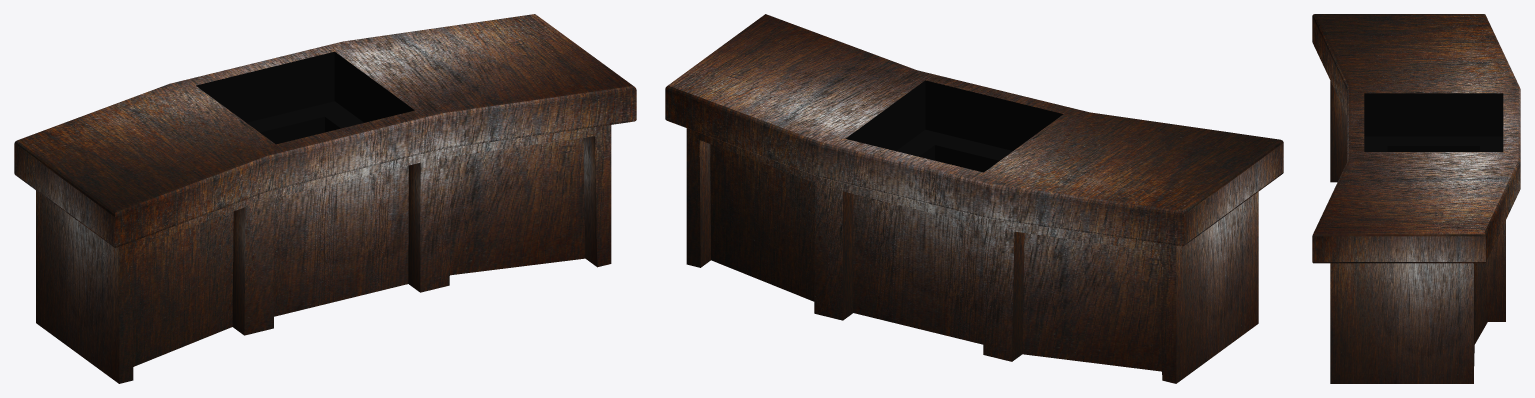
The model's file is Desk.fbx.
3 renders of one model, left to right at view 1: azimuth 30°, elevation 25°; view 2: azimuth 150°, elevation 25°; view 3: azimuth 270°, elevation 25°, orthographic. The views are drawn at different scales.
Parts seen in each view (by area): view 1: Desk; view 2: Desk; view 3: Desk.
Boxes of the visible parts, x1,y1,x2,y2 form: Desk: (14,14,636,383); Desk: (665,14,1283,383); Desk: (1312,14,1520,383).
Bounding box in the file's own units: 300 × 100 × 120.
Materials: 2 (1 with a texture image).
